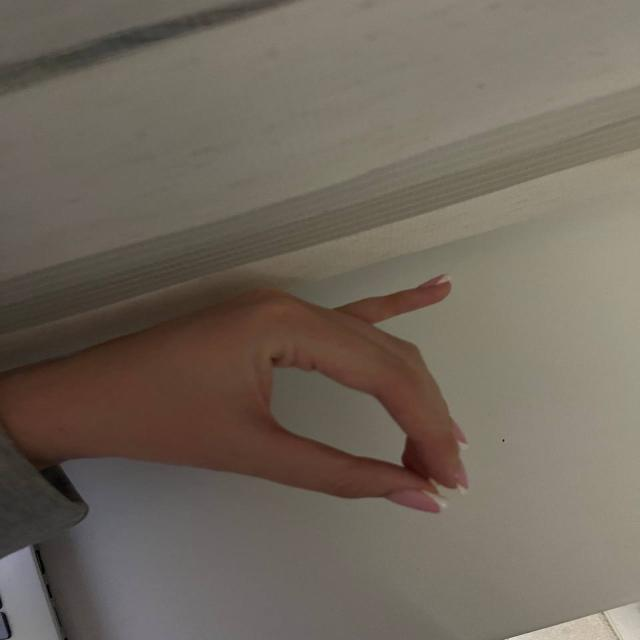iu: (87, 259, 513, 540)
